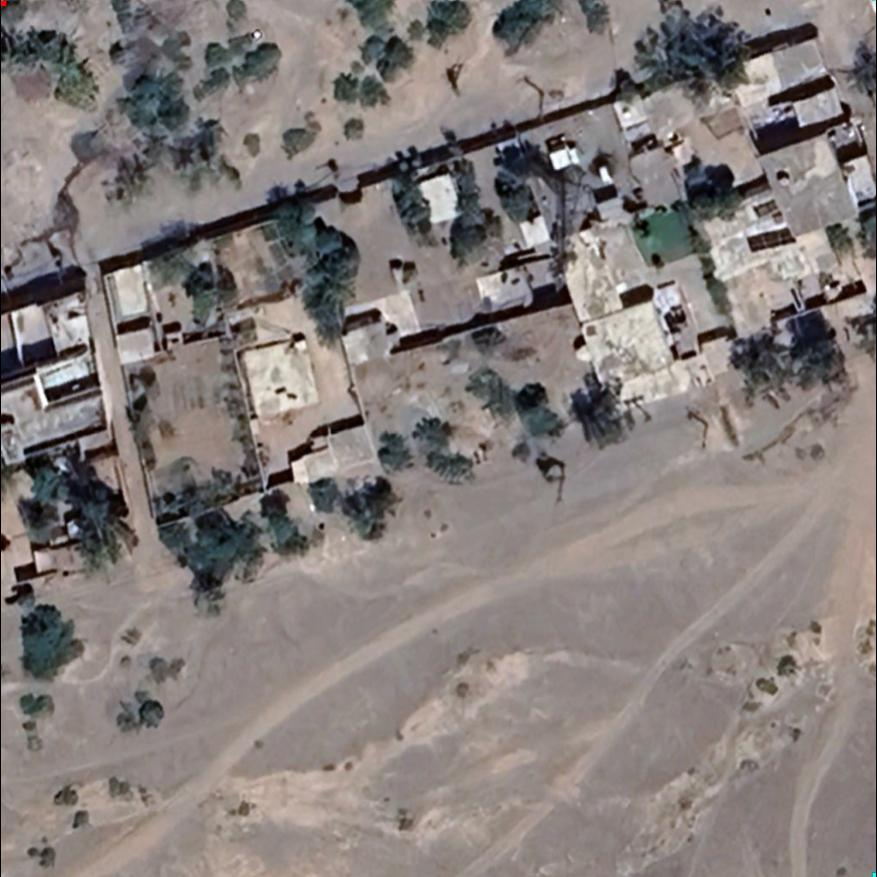Solarpanel: (743, 222, 804, 255)
